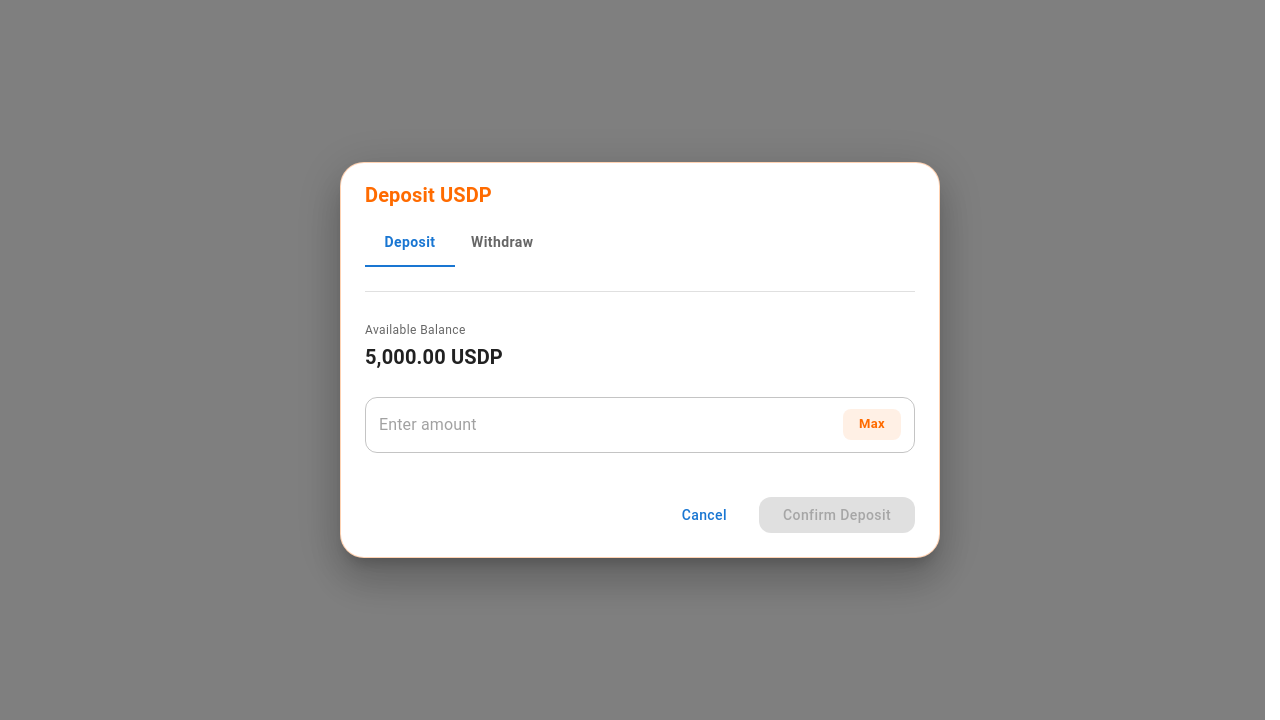
it: SavingsDepositModal › Boundary Tests › should handle large withdrawal (all principal)
Click the tab "Withdraw" at x=502, y=243, box [455,219,549,267]
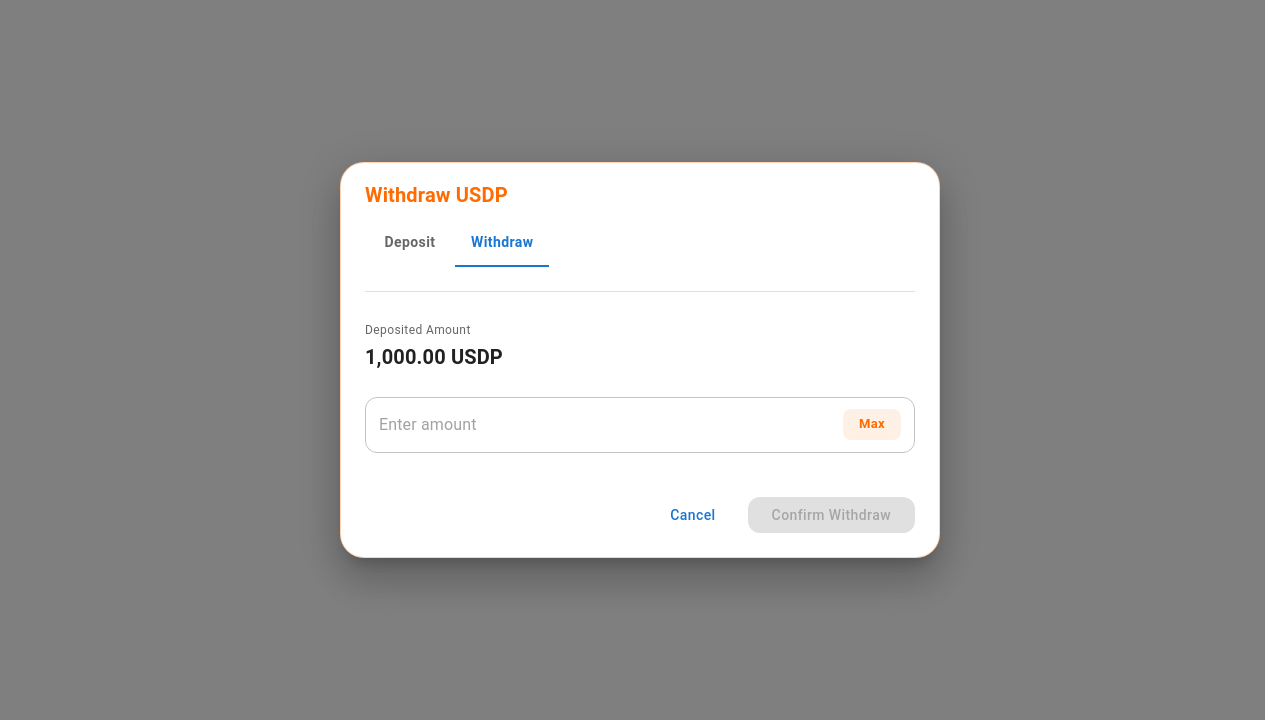
Click the button "Max" at x=872, y=425, box [843,409,901,440]
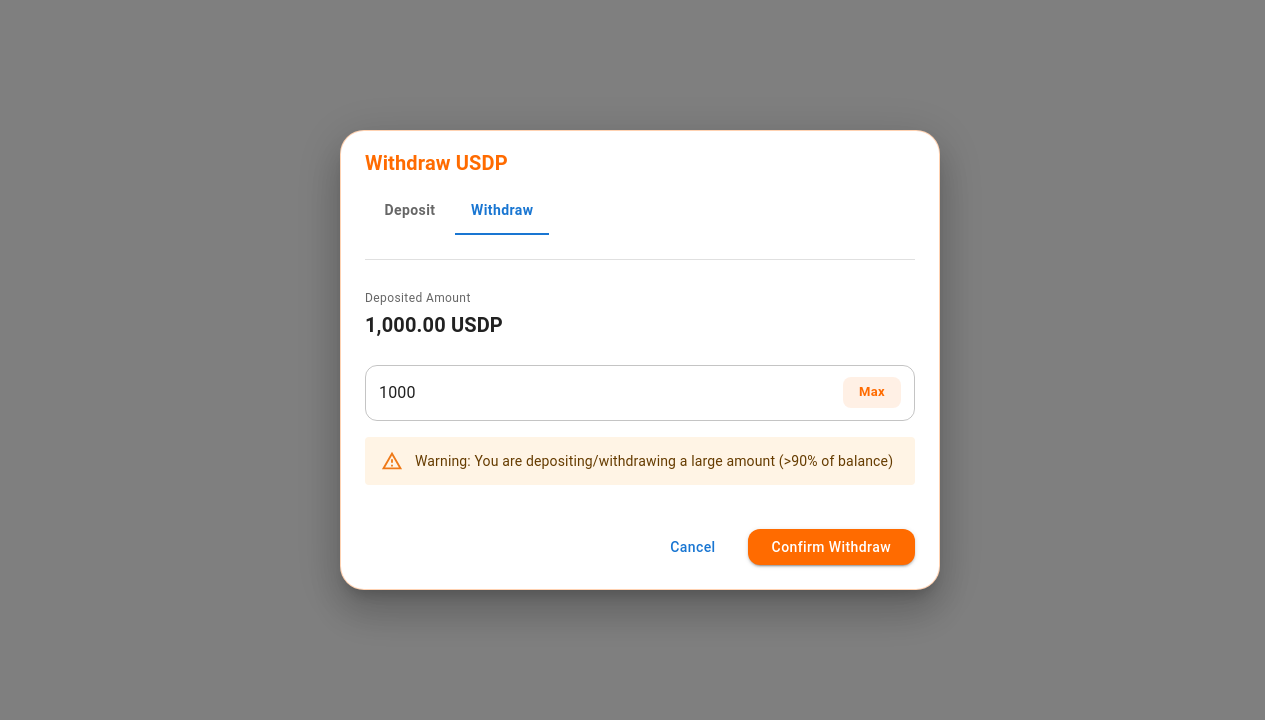
Result: the field with placeholder "Enter amount" is not empty at [365,365,843,421]
